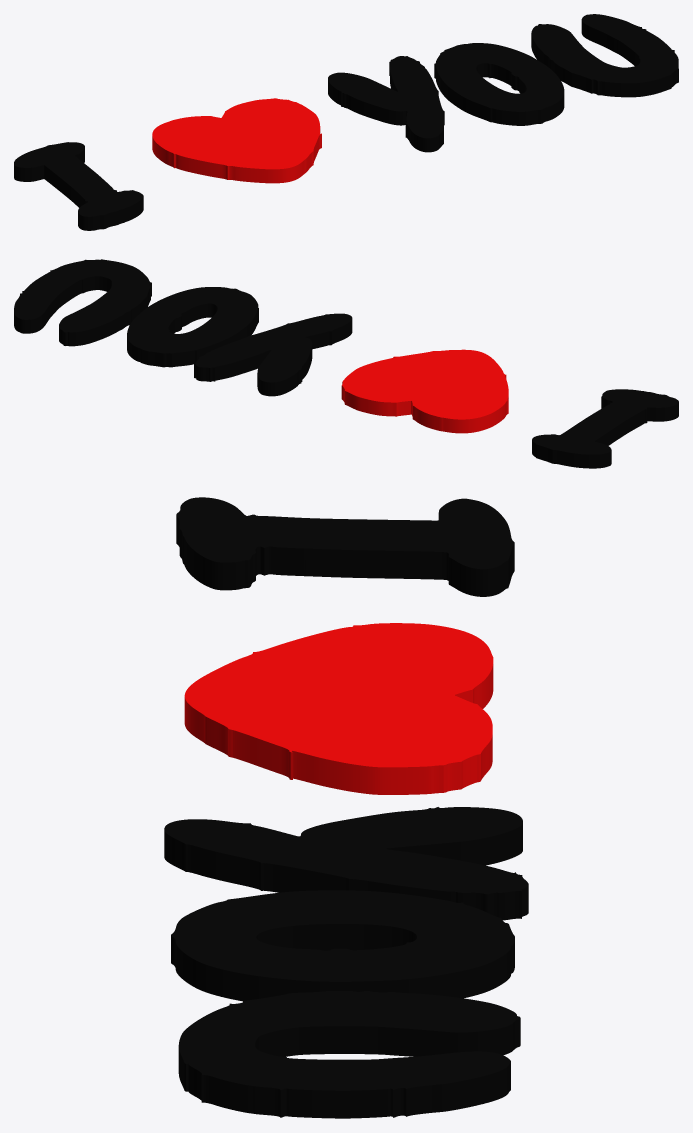
Rendered from asset.glb.
3 renders of one model, top to bottom at view 1: azimuth 30°, elevation 25°; view 2: azimuth 150°, elevation 25°; view 3: azimuth 270°, elevation 25°, orthographic. The views are drawn at different scales.
Visible parts, largest first — view 1: imagetostl_mesh9, imagetostl_mesh1, imagetostl_mesh3, imagetostl_mesh5, imagetostl_mesh7, imagetostl_mesh2, imagetostl_mesh0, imagetostl_mesh8, imagetostl_mesh6, imagetostl_mesh4; view 2: imagetostl_mesh9, imagetostl_mesh1, imagetostl_mesh3, imagetostl_mesh5, imagetostl_mesh7, imagetostl_mesh2, imagetostl_mesh4, imagetostl_mesh8, imagetostl_mesh6, imagetostl_mesh0; view 3: imagetostl_mesh9, imagetostl_mesh1, imagetostl_mesh3, imagetostl_mesh5, imagetostl_mesh2, imagetostl_mesh7, imagetostl_mesh0, imagetostl_mesh6, imagetostl_mesh4, imagetostl_mesh8.
Part boxes in pixels (x1,y1,x2,y2): imagetostl_mesh9: (152, 98, 321, 169); imagetostl_mesh1: (434, 43, 564, 111); imagetostl_mesh3: (531, 14, 678, 83); imagetostl_mesh5: (328, 56, 443, 138); imagetostl_mesh7: (14, 142, 143, 216); imagetostl_mesh2: (531, 20, 678, 97); imagetostl_mesh0: (434, 53, 564, 125); imagetostl_mesh8: (152, 129, 321, 183); imagetostl_mesh6: (14, 148, 143, 230); imagetostl_mesh4: (328, 60, 444, 152); imagetostl_mesh9: (342, 349, 508, 419); imagetostl_mesh1: (127, 287, 258, 353); imagetostl_mesh3: (14, 259, 151, 332); imagetostl_mesh5: (194, 313, 352, 382); imagetostl_mesh7: (532, 389, 678, 454); imagetostl_mesh2: (14, 271, 151, 346); imagetostl_mesh4: (194, 319, 352, 396); imagetostl_mesh8: (341, 357, 508, 433); imagetostl_mesh6: (532, 397, 678, 468); imagetostl_mesh0: (127, 303, 258, 367); imagetostl_mesh9: (184, 623, 493, 767); imagetostl_mesh1: (171, 890, 514, 981); imagetostl_mesh3: (178, 991, 520, 1090); imagetostl_mesh5: (164, 807, 528, 894); imagetostl_mesh2: (178, 1001, 520, 1118); imagetostl_mesh7: (176, 497, 514, 569); imagetostl_mesh0: (171, 924, 514, 1001); imagetostl_mesh6: (176, 508, 514, 596); imagetostl_mesh4: (164, 823, 528, 920); imagetostl_mesh8: (184, 664, 493, 794).
Size of the model in its own units: 91.97 by 2 by 23.86.
